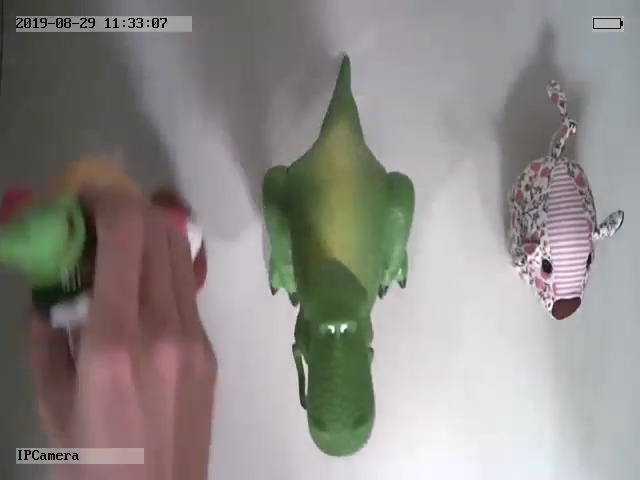pig: (503, 78, 623, 320)
rex: (261, 53, 417, 457)
